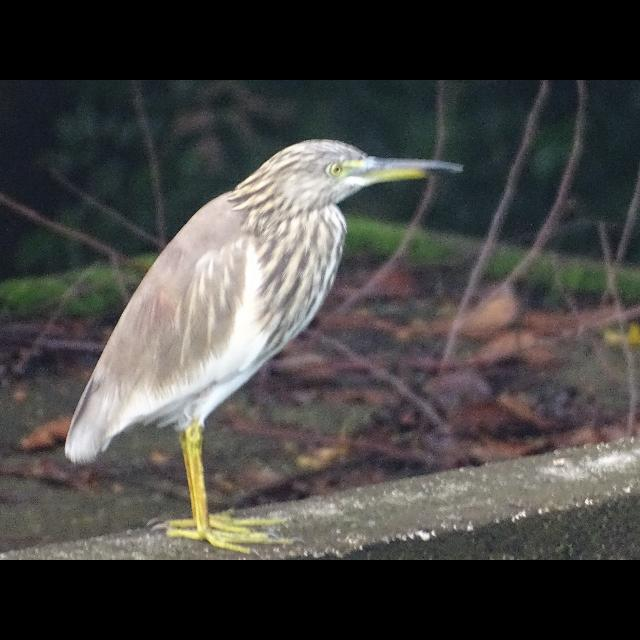heron: (66, 140, 464, 528)
